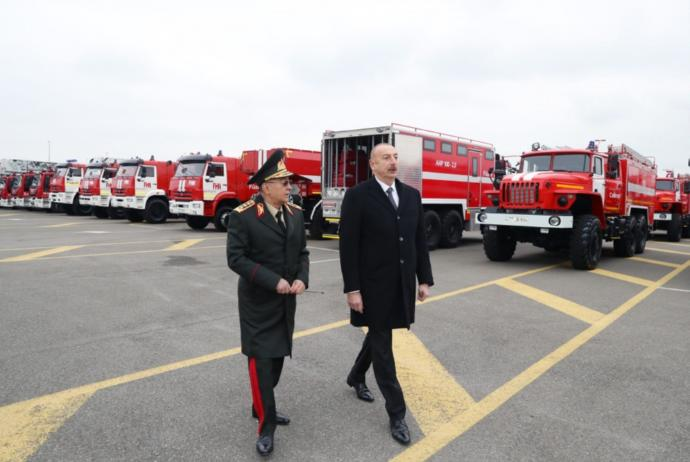Fire-engine: (492, 129, 661, 251)
